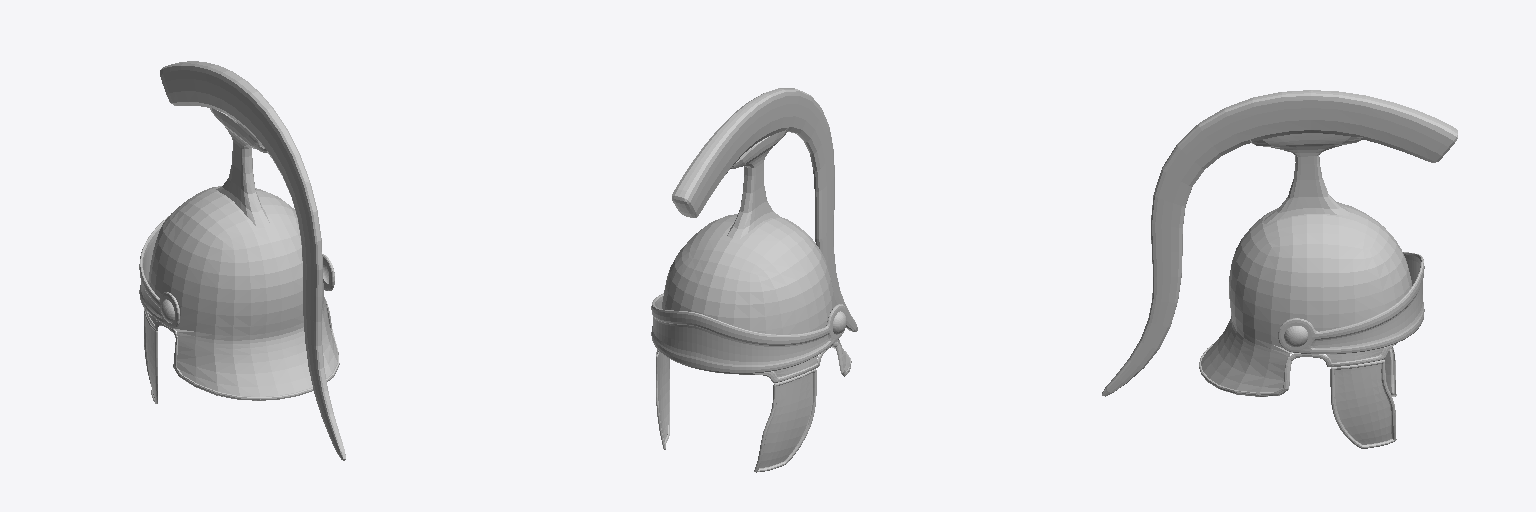
The model's file is greek_helmet.obj.
3 renders of one model, left to right at view 1: azimuth 30°, elevation 25°; view 2: azimuth 150°, elevation 25°; view 3: azimuth 270°, elevation 25°, orthographic.
Parts seen in each view (by area): view 1: greek_helmet.lwo; view 2: greek_helmet.lwo; view 3: greek_helmet.lwo.
Part boxes in pixels (x1,y1,x2,y2): greek_helmet.lwo: (139, 61, 345, 460); greek_helmet.lwo: (651, 88, 857, 472); greek_helmet.lwo: (1102, 90, 1457, 448).
Bounding box in the file's own units: 4.35 × 8.09 × 7.95.